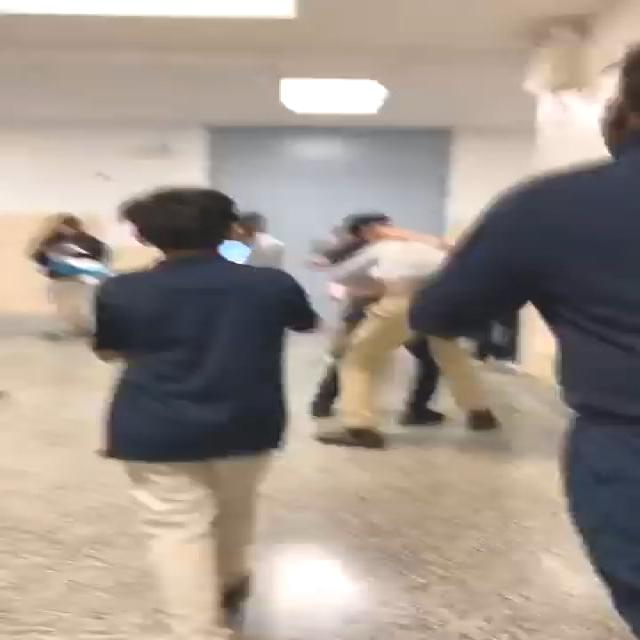fight: (326, 213, 504, 444)
